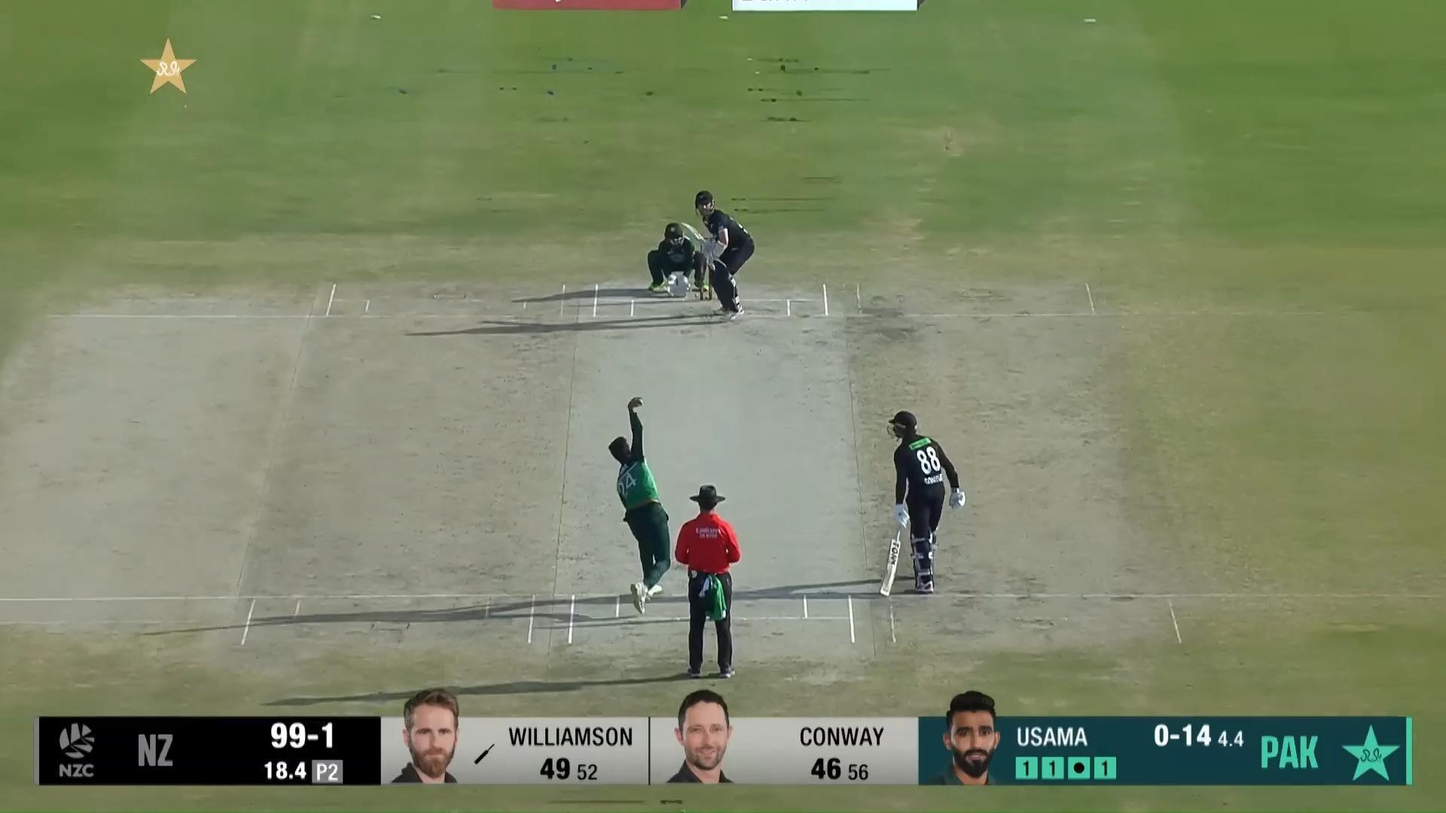BM 1: (680, 190, 755, 321)
BO: (607, 396, 674, 616)
